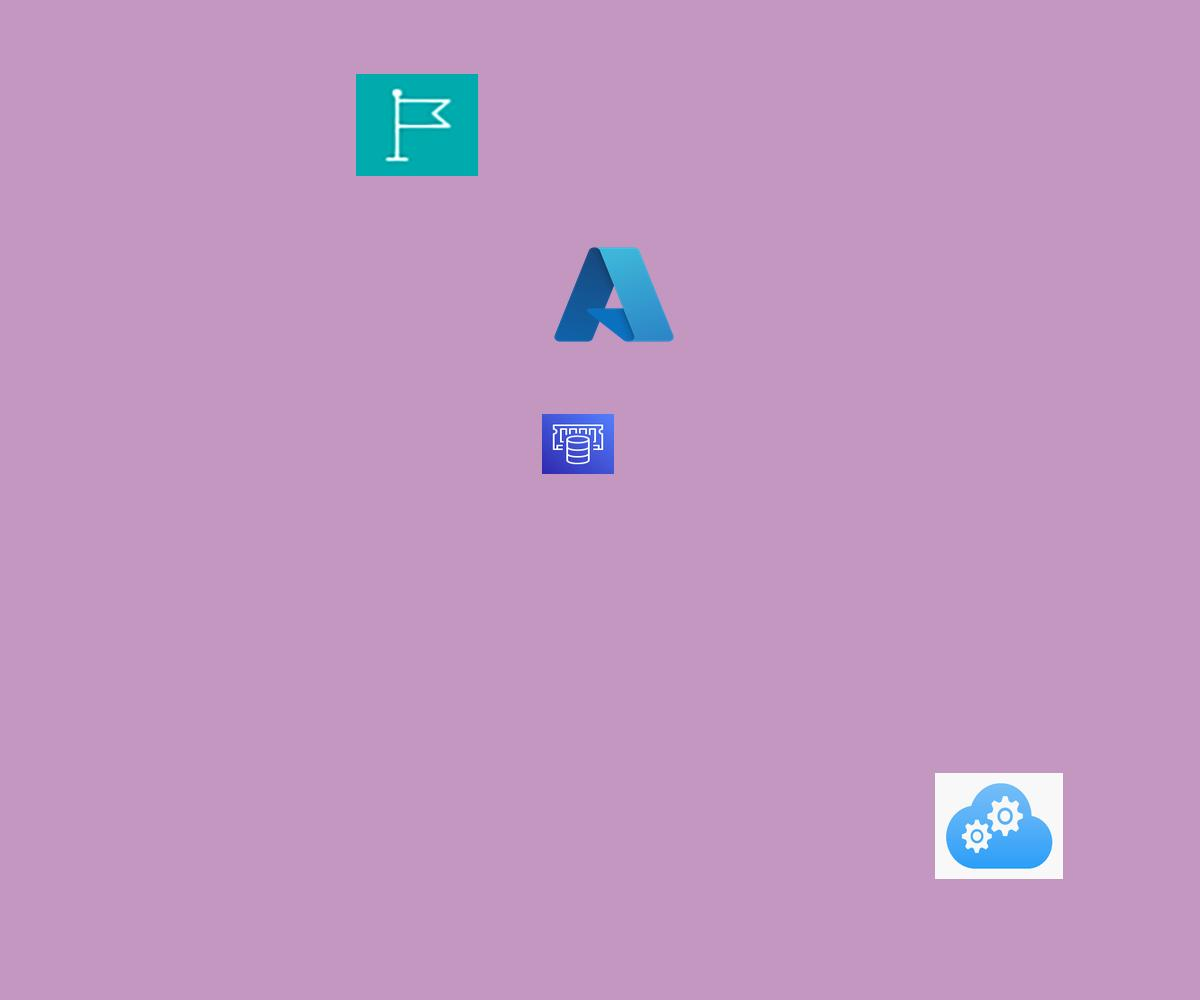AWS-ElastiCache: (542, 414, 614, 474)
AWS-Region: (356, 74, 478, 176)
Azure_cloud_services: (935, 773, 1063, 879)
Azure_services: (549, 240, 679, 349)
